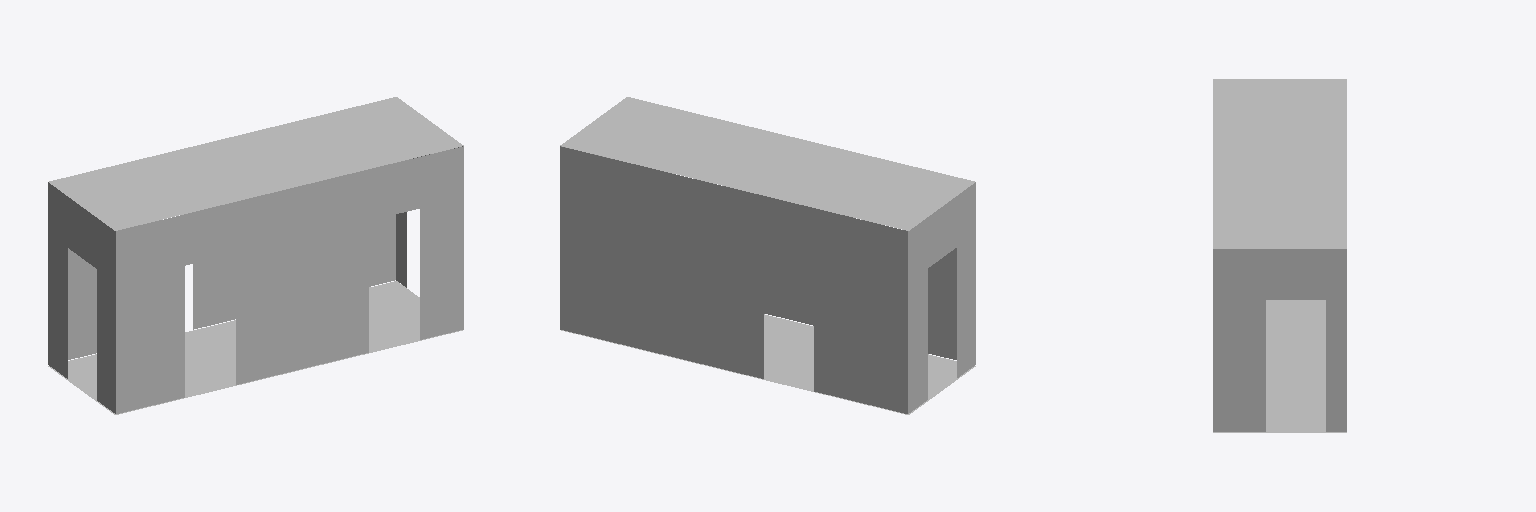
File: pasillo.obj
3 renders of one model, left to right at view 1: azimuth 30°, elevation 25°; view 2: azimuth 150°, elevation 25°; view 3: azimuth 270°, elevation 25°, orthographic.
Parts seen in each view (by area): view 1: Cube, Techo, Suelo; view 2: Cube, Techo, Suelo; view 3: Techo, Cube, Suelo.
Part boxes in pixels (x1,y1,x2,y2): Cube: (48,146,463,413); Techo: (49,97,463,230); Suelo: (48,281,462,414); Cube: (560,146,975,413); Techo: (560,97,974,230); Suelo: (561,314,975,414); Techo: (1213,79,1346,248); Cube: (1213,249,1346,431); Suelo: (1213,300,1346,432).
Bounding box in the file's own units: 5.98 × 3.01 × 2.